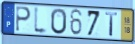6: (69, 8, 83, 37)
7: (87, 9, 102, 37)
L: (33, 5, 49, 36)
O: (50, 8, 68, 36)
P: (15, 5, 32, 33)
T: (105, 11, 119, 37)
